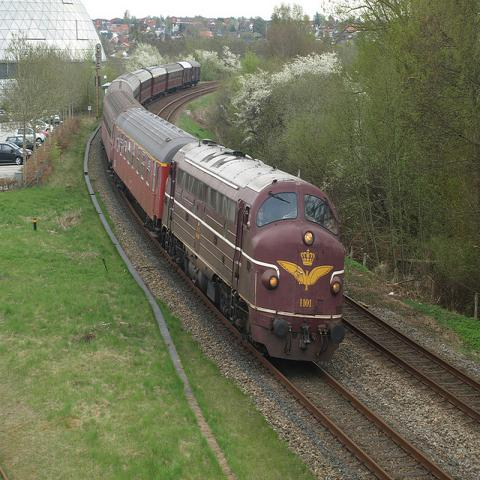car: (0, 141, 24, 167), (14, 128, 47, 146), (6, 135, 34, 152), (22, 117, 53, 131), (20, 127, 50, 137), (54, 120, 63, 124), (55, 115, 60, 120)
